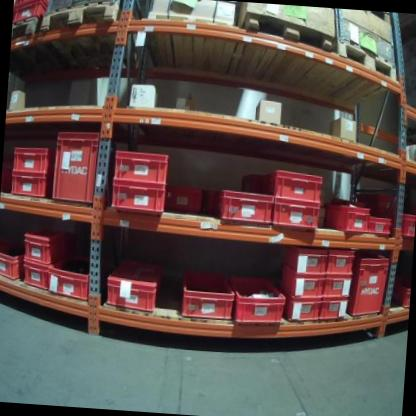pallet: (241, 9, 336, 54), (38, 0, 124, 40), (335, 39, 398, 83), (148, 9, 235, 28), (11, 13, 39, 43)
small_load_carrier: (47, 128, 101, 206), (174, 266, 237, 322), (103, 254, 161, 313), (224, 271, 287, 324), (199, 188, 275, 230), (346, 250, 391, 320), (46, 253, 105, 302), (257, 167, 323, 202), (111, 179, 169, 218), (111, 149, 172, 185), (21, 226, 70, 265), (271, 198, 322, 233), (325, 200, 374, 235), (280, 243, 328, 273), (9, 144, 51, 175), (284, 292, 323, 325), (0, 238, 29, 282), (278, 272, 327, 297), (166, 182, 203, 215), (10, 172, 51, 200), (18, 258, 50, 292), (319, 294, 350, 326), (320, 274, 352, 302), (326, 249, 356, 275), (364, 215, 395, 240), (393, 210, 416, 243), (393, 278, 411, 313)
